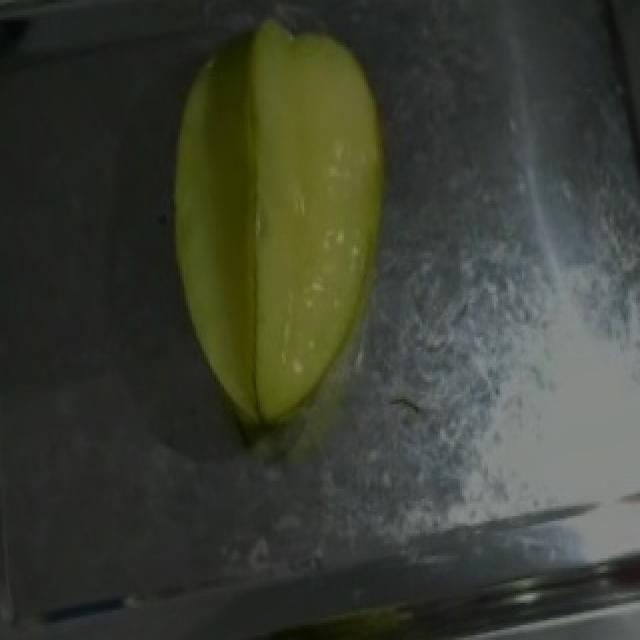fruit: (172, 8, 468, 424)
